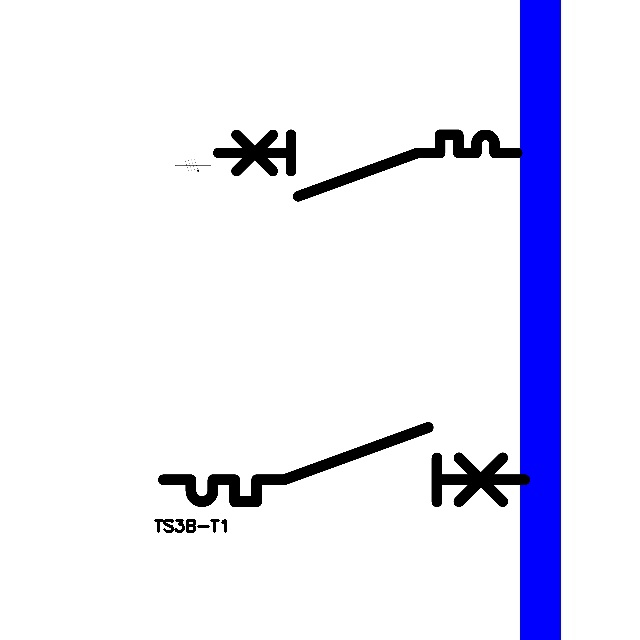interruptor_termomagnetico: (154, 418, 534, 511), (210, 127, 525, 204)
